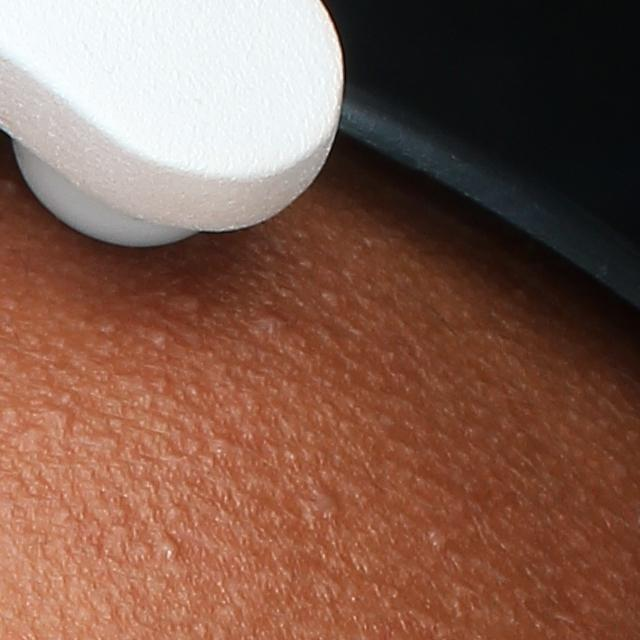comedo: (422, 519, 455, 557), (45, 405, 80, 437), (317, 484, 344, 520), (253, 310, 288, 337), (156, 531, 180, 566), (177, 291, 206, 319), (209, 431, 237, 457), (150, 327, 175, 351), (320, 286, 346, 309)
